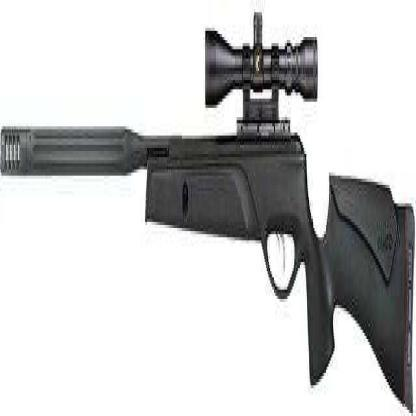Heavy Gun: (0, 6, 416, 412)
